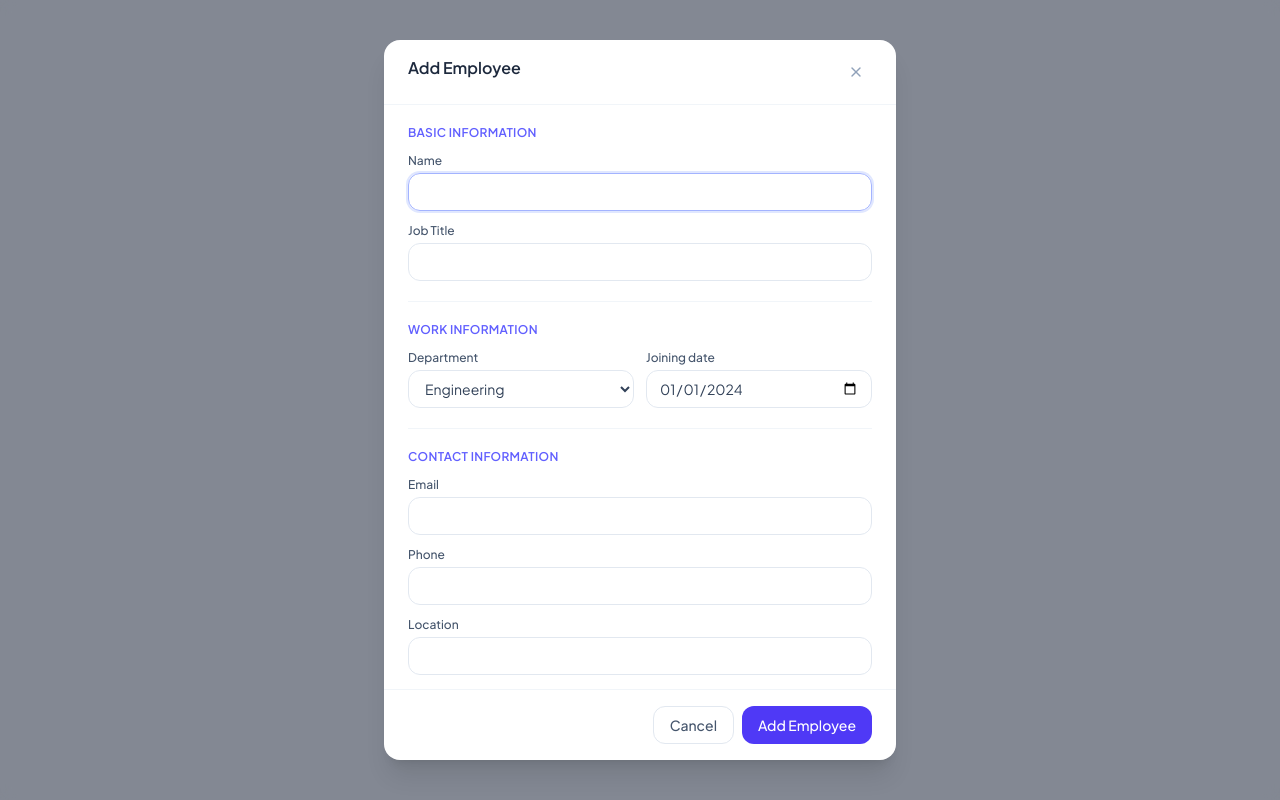
Test: EmployeeFormModal › blocks submission and shows validation errors for empty required fields
Click the button "Add Employee": (807, 725) left=742, top=706, right=872, bottom=744
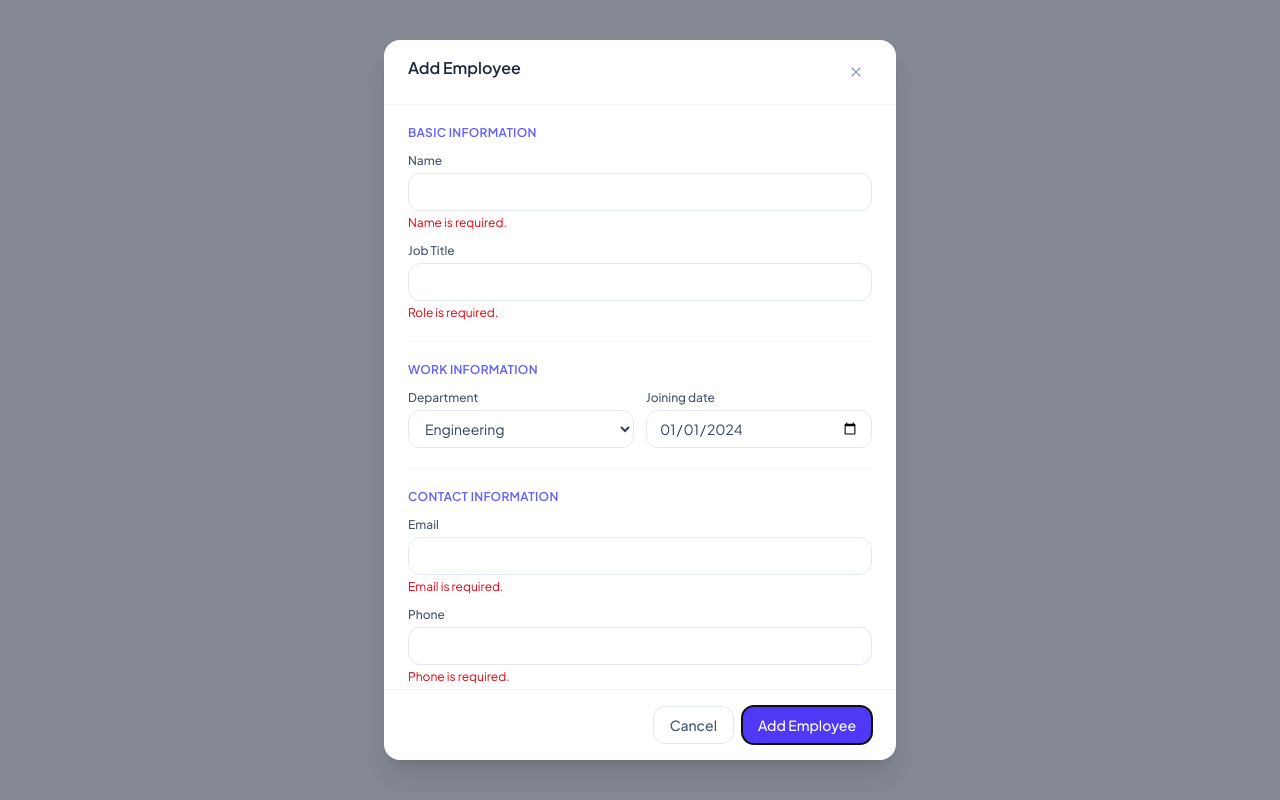
Result: the text "Name is required." is shown at left=408, top=215, right=507, bottom=230
Result: the text "Email is required." is shown at left=408, top=579, right=504, bottom=594
